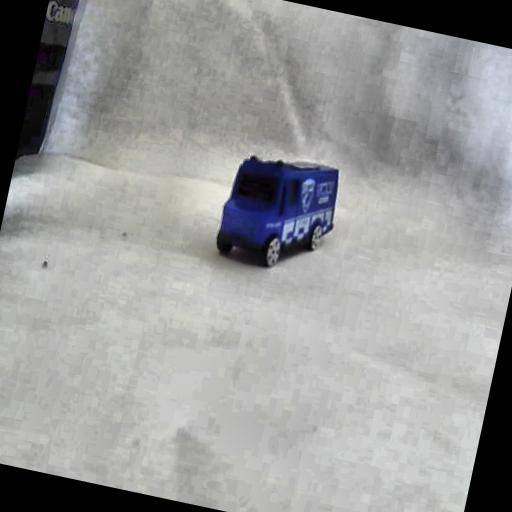police car: (210, 141, 344, 278)
